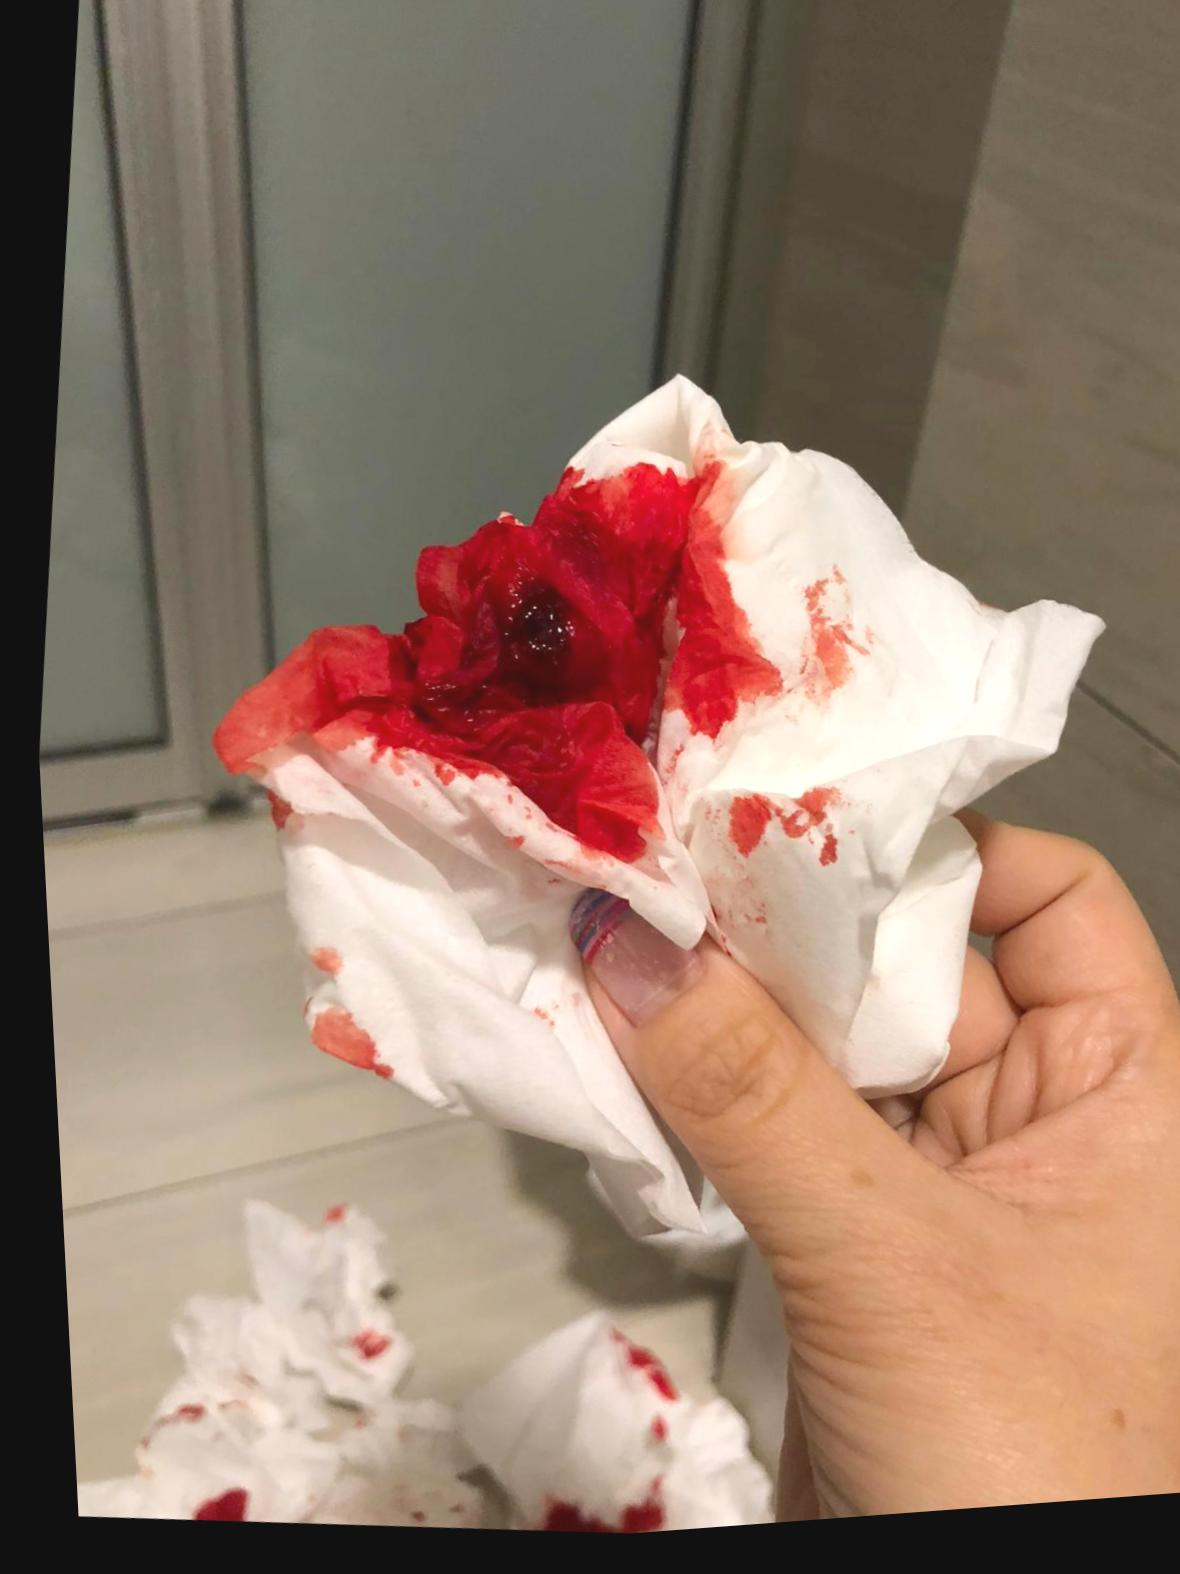Fire: (207, 472, 772, 873), (502, 1325, 668, 1542), (679, 796, 861, 918), (795, 579, 871, 723), (297, 1010, 381, 1086), (331, 1335, 388, 1396), (176, 1493, 229, 1524), (138, 1409, 191, 1435), (309, 1210, 335, 1232)
